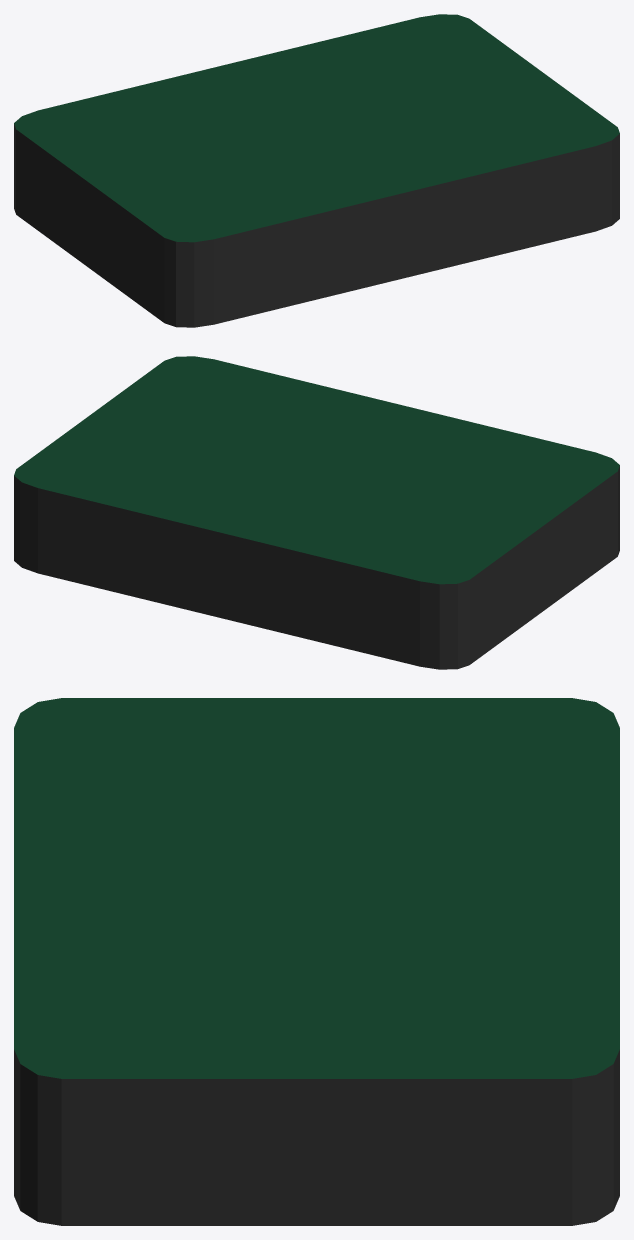
3 renders of one model, top to bottom at view 1: azimuth 30°, elevation 25°; view 2: azimuth 150°, elevation 25°; view 3: azimuth 270°, elevation 25°, orthographic. The views are drawn at different scales.
Visible parts, largest first — view 1: Cube; view 2: Cube; view 3: Cube.
Boxes of the visible parts, box(x1,y1,x2,y2) form: Cube: box(14, 14, 619, 327); Cube: box(14, 356, 619, 669); Cube: box(14, 698, 619, 1225).
Size of the model in its own units: 29191 by 5253 by 19627.
